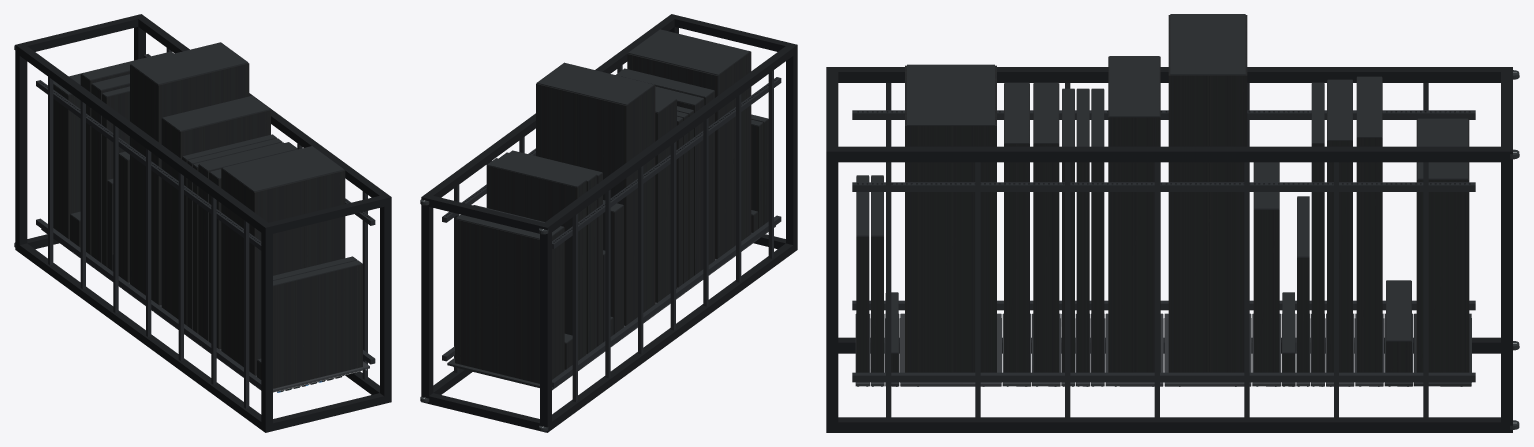
The model's file is dell-compute-42u.glb.
3 views of the same model, side by side, from view 1: azimuth 30°, elevation 25°; view 2: azimuth 150°, elevation 25°; view 3: azimuth 270°, elevation 25° (orthographic). The views are drawn at different scales.
Visible parts, largest first — view 1: RACK_FRAME__nexus_black_dark, MX7000__steel_textured, S5248F_A__steel_textured, SIDE_BRACES__nexus_black, XE9680__steel_textured, R960__steel_textured, MOUNTING_RAILS__nexus_black, DELL_UPS__steel_textured, MX7000__dell_graphite_dark, XE9680__dell_graphite_dark, R960__dell_graphite_dark, R6615__steel_textured (+16 smaller); view 2: RACK_FRAME__nexus_black_dark, DELL_UPS__steel_textured, XE9680__steel_textured, SIDE_BRACES__nexus_black, MX7000__steel_textured, R7625__steel_textured, MOUNTING_RAILS__nexus_black, MX7000__dell_graphite_dark, R960__steel_textured, XE9680__dell_graphite_dark, R7615__steel_textured, POWERVAULT_ME5__steel_textured (+14 smaller); view 3: RACK_FRAME__nexus_black_dark, XE9680__steel_textured, MX7000__steel_textured, MOUNTING_RAILS__nexus_black, R960__steel_textured, SIDE_BRACES__nexus_black, DELL_UPS__steel_textured, R7625__steel_textured, R760_B__steel_textured, MX7000__dell_graphite_dark, R760_A__steel_textured, XE9680__dell_graphite_dark (+31 smaller).
Part boxes in pixels (left/top/right/bottom): RACK_FRAME__nexus_black_dark: left=15, top=14, right=391, bottom=432; MX7000__steel_textured: left=221, top=168, right=345, bottom=375; S5248F_A__steel_textured: left=273, top=264, right=362, bottom=388; SIDE_BRACES__nexus_black: left=48, top=48, right=367, bottom=408; XE9680__steel_textured: left=130, top=63, right=249, bottom=305; R960__steel_textured: left=161, top=110, right=270, bottom=319; MOUNTING_RAILS__nexus_black: left=36, top=54, right=375, bottom=388; DELL_UPS__steel_textured: left=53, top=84, right=80, bottom=239; MX7000__dell_graphite_dark: left=222, top=146, right=344, bottom=191; XE9680__dell_graphite_dark: left=130, top=42, right=248, bottom=84; R960__dell_graphite_dark: left=162, top=96, right=270, bottom=131; R6615__steel_textured: left=102, top=91, right=129, bottom=266; RACK_FRAME__nexus_black_dark: left=421, top=14, right=797, bottom=432; DELL_UPS__steel_textured: left=455, top=219, right=564, bottom=383; XE9680__steel_textured: left=536, top=83, right=655, bottom=325; SIDE_BRACES__nexus_black: left=454, top=65, right=773, bottom=401; MX7000__steel_textured: left=627, top=51, right=751, bottom=258; R7625__steel_textured: left=486, top=165, right=586, bottom=360; MOUNTING_RAILS__nexus_black: left=442, top=77, right=781, bottom=387; MX7000__dell_graphite_dark: left=628, top=29, right=750, bottom=75; R960__steel_textured: left=655, top=99, right=676, bottom=302; XE9680__dell_graphite_dark: left=536, top=62, right=654, bottom=105; R7615__steel_textured: left=586, top=175, right=597, bottom=353; POWERVAULT_ME5__steel_textured: left=603, top=206, right=623, bottom=334; RACK_FRAME__nexus_black_dark: left=826, top=67, right=1512, bottom=432; XE9680__steel_textured: left=1168, top=15, right=1247, bottom=372; MX7000__steel_textured: left=905, top=65, right=996, bottom=372; MOUNTING_RAILS__nexus_black: left=852, top=110, right=1475, bottom=382; R960__steel_textured: left=1108, top=56, right=1160, bottom=372; SIDE_BRACES__nexus_black: left=886, top=83, right=1428, bottom=420; DELL_UPS__steel_textured: left=1416, top=119, right=1469, bottom=372; R7625__steel_textured: left=1356, top=77, right=1382, bottom=372; R760_B__steel_textured: left=1033, top=83, right=1059, bottom=372; MX7000__dell_graphite_dark: left=907, top=64, right=994, bottom=125; R760_A__steel_textured: left=1004, top=83, right=1029, bottom=372; XE9680__dell_graphite_dark: left=1170, top=14, right=1245, bottom=75.
Bounding box in the file's own units: 0.609 × 1.16 × 2.1.
31 materials, 6 textured.
